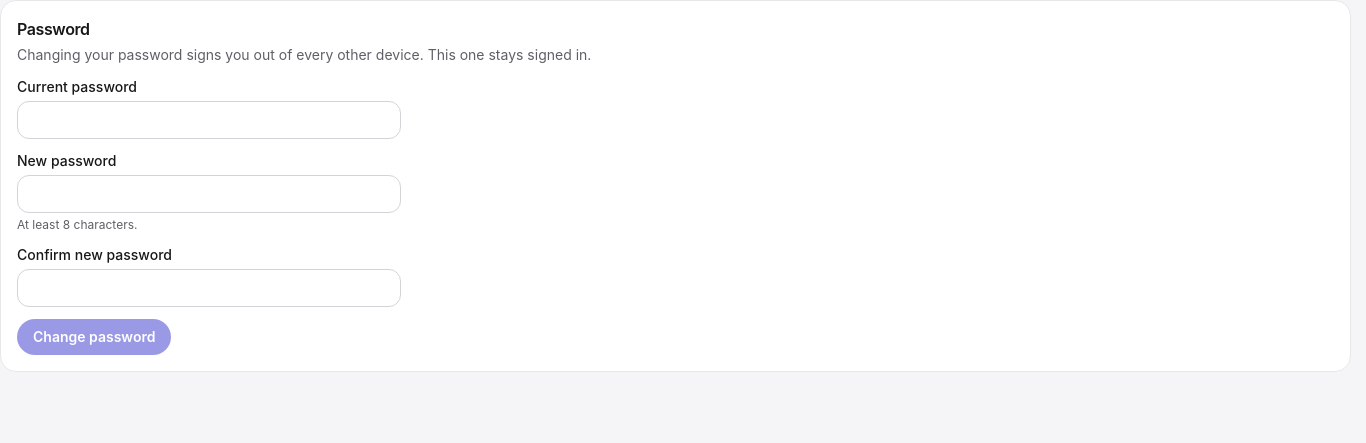
it: ChangePasswordSection › points a password-less (OAuth-only) account at the reset flow on 409
In the password field labelled "Current password": (209, 120) [17, 101, 401, 139], type "supersecret"
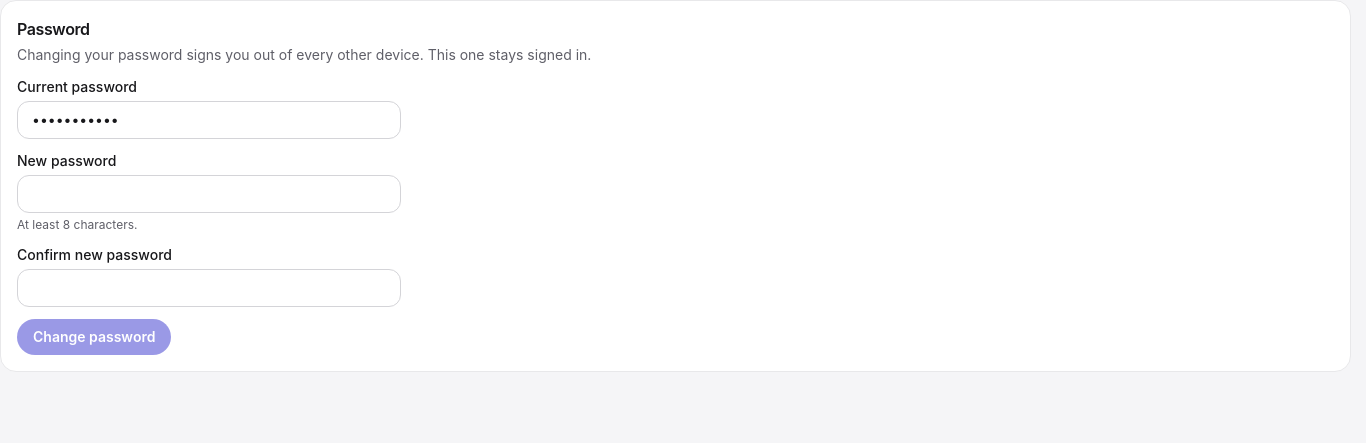
In the password field labelled "New password": (209, 194) [17, 175, 401, 213], type "evenmoresecret"
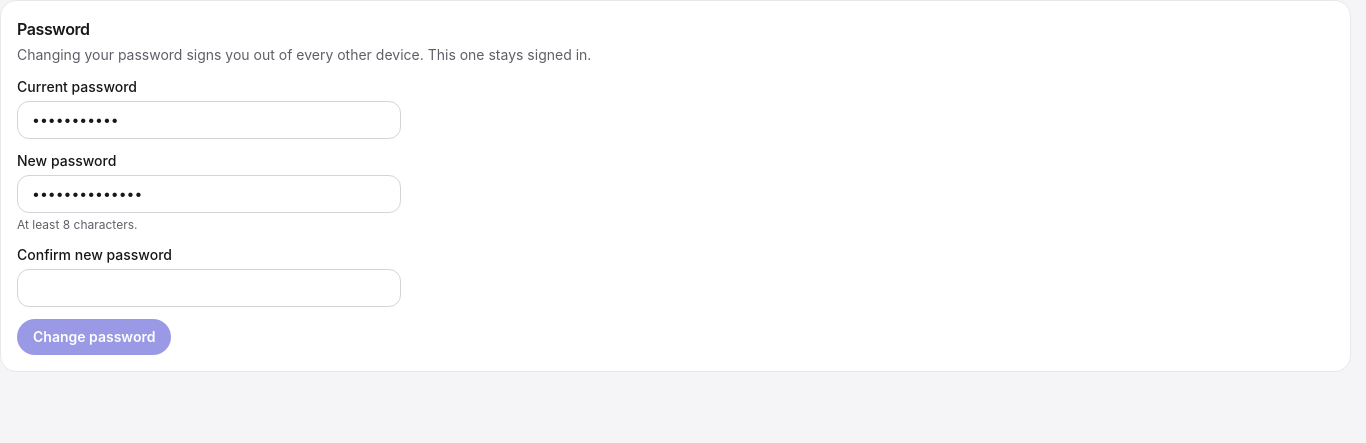
In the password field labelled "Confirm new password": (209, 288) [17, 269, 401, 307], type "evenmoresecret"
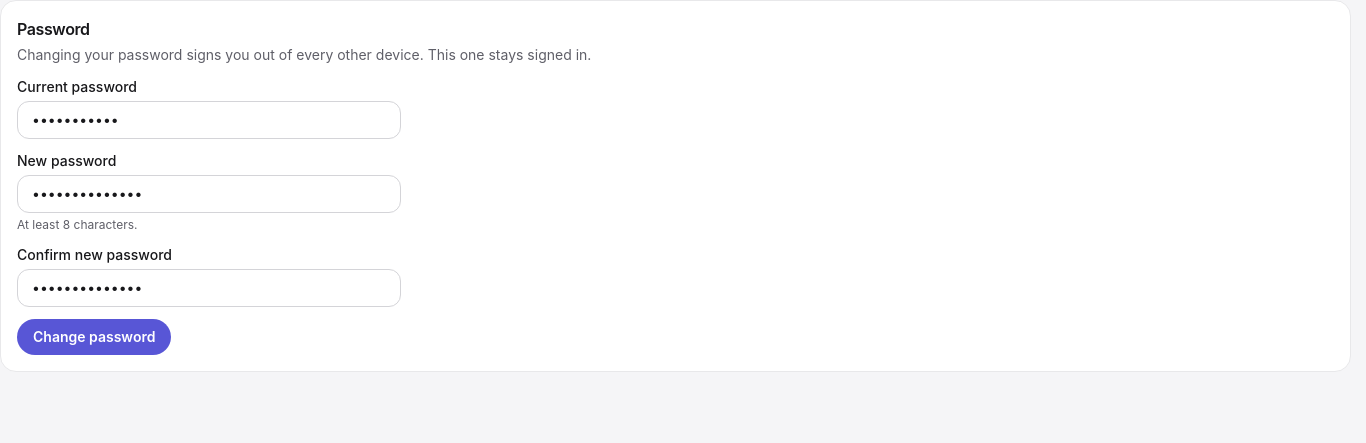
Click the button "Change password": (94, 337) [17, 319, 171, 355]
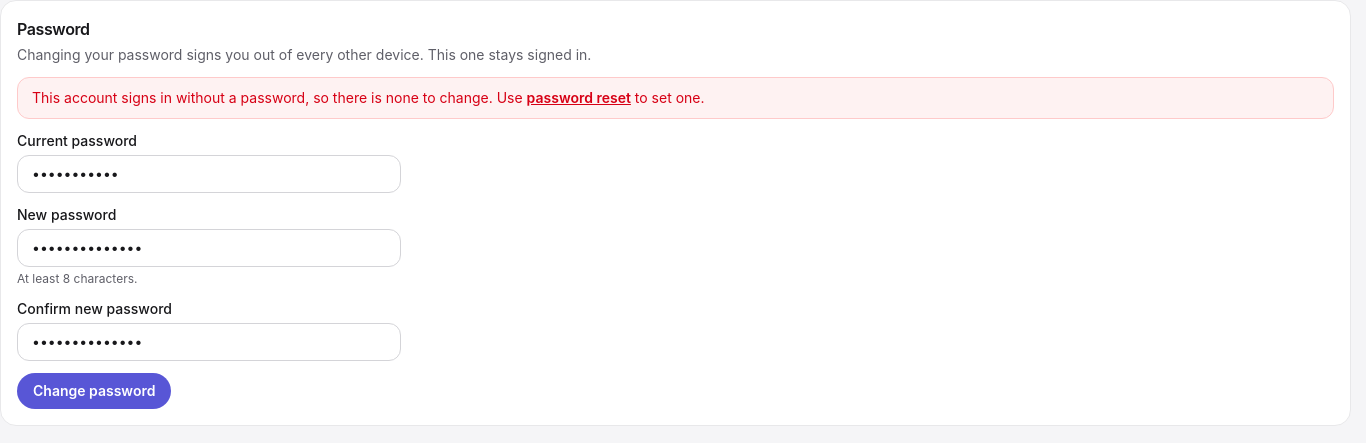
expect the message shows "reset": met, box [527, 89, 631, 106]
